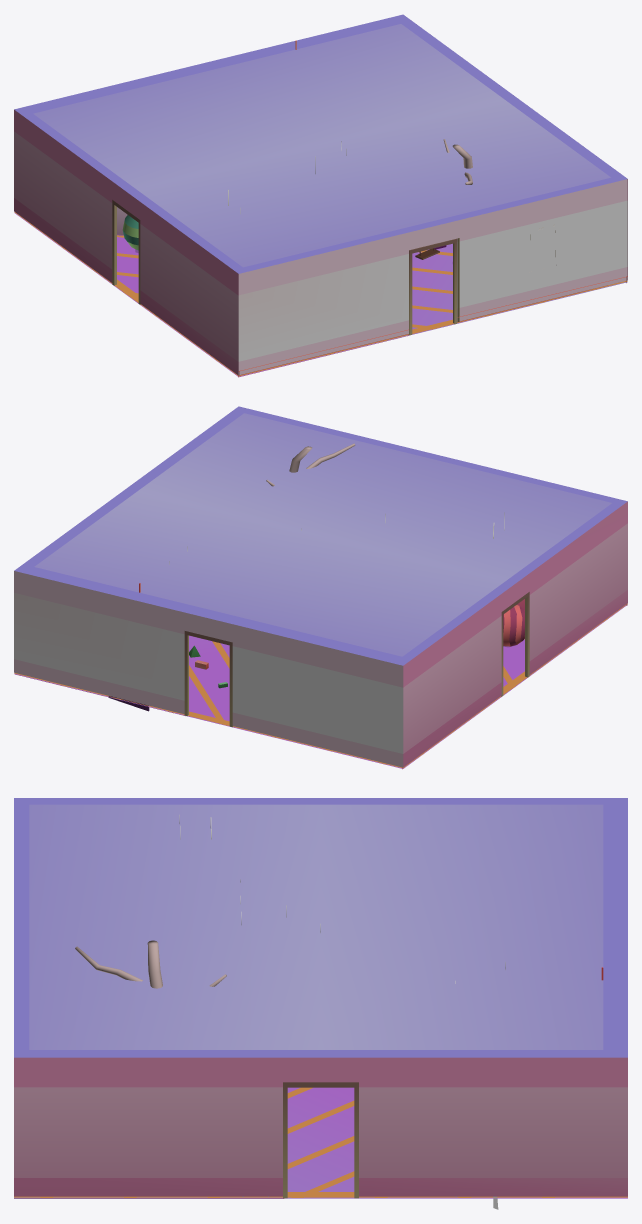
File: bedroom.fbx
3 views of the same model, one above another, from view 1: azimuth 30°, elevation 25°; view 2: azimuth 150°, elevation 25°; view 3: azimuth 270°, elevation 25° (orthographic). The views are drawn at different scales.
Visible parts, largest first — view 1: bedroom; view 2: bedroom; view 3: bedroom.
Boxes of the visible parts, x1=… form: bedroom: x1=14, y1=14, x2=627, y2=377; bedroom: x1=14, y1=406, x2=627, y2=769; bedroom: x1=14, y1=798, x2=627, y2=1209.
Size of the model in its own units: 12 by 4.04 by 12.
